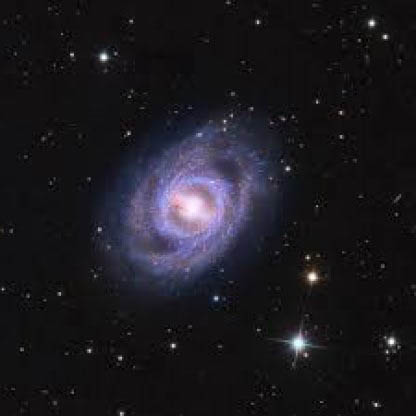Messier 95: (88, 98, 283, 300)
